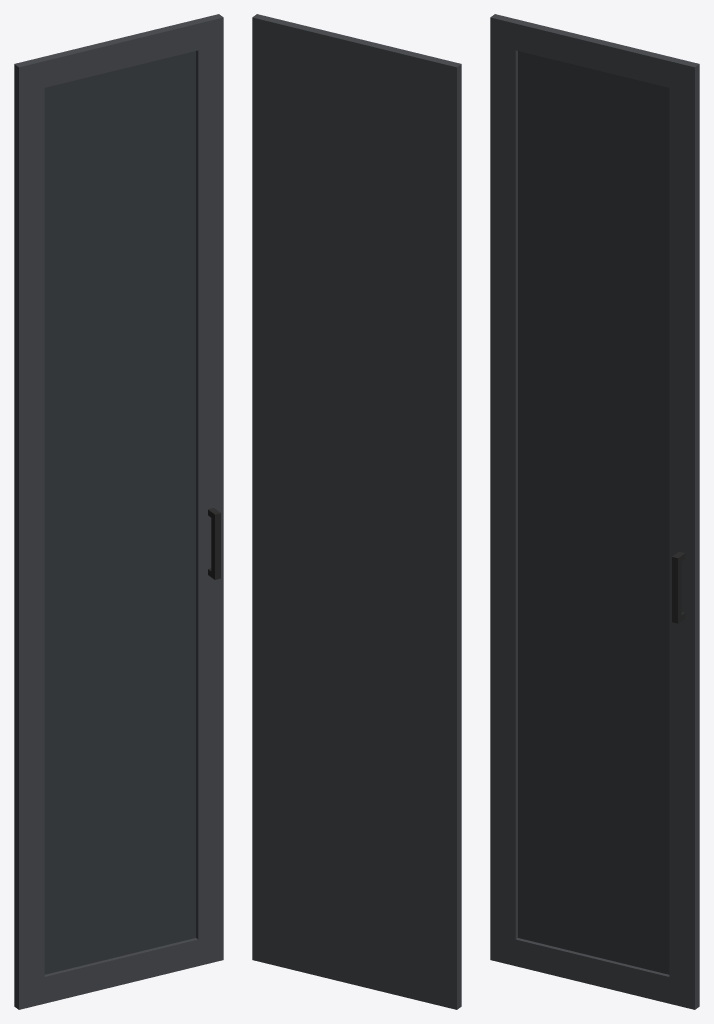
The model's file is Wardrobe4_C2_05.fbx.
3 renders of one model, left to right at view 1: azimuth 30°, elevation 25°; view 2: azimuth 150°, elevation 25°; view 3: azimuth 330°, elevation 25°, orthographic.
Visible parts, largest first — view 1: Wardrobe4_C2_05; view 2: Wardrobe4_C2_05; view 3: Wardrobe4_C2_05.
Boxes of the visible parts, <box> form: Wardrobe4_C2_05: <box>14,14,223,1009</box>; Wardrobe4_C2_05: <box>252,14,461,1009</box>; Wardrobe4_C2_05: <box>490,14,699,1009</box>.
Size of the model in its own units: 50 by 220 by 5.02.
